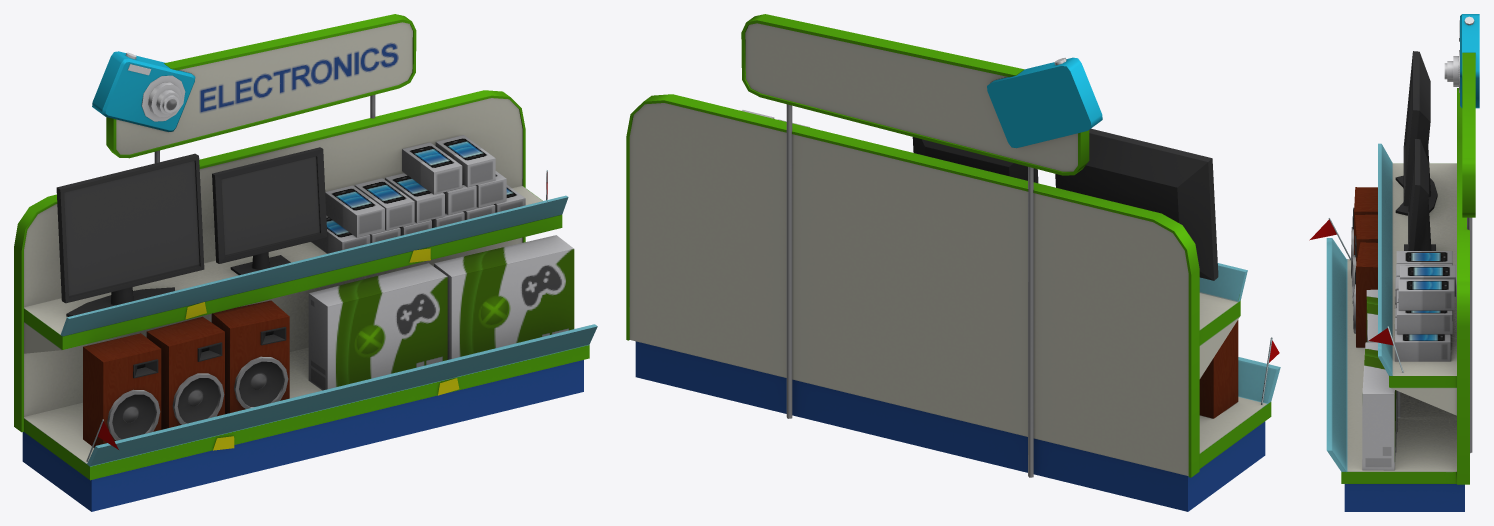
The model's file is interior_shelf_electronics_001_gr_mesh.FBX.
The picture shows the model from 3 angles, left to right: view 1: azimuth 30°, elevation 25°; view 2: azimuth 150°, elevation 25°; view 3: azimuth 270°, elevation 25°; orthographic projection. The views are drawn at different scales.
Parts seen in each view (by area): view 1: interior_shelf_electronics_001_gr; view 2: interior_shelf_electronics_001_gr; view 3: interior_shelf_electronics_001_gr.
Part boxes in pixels (x1,y1,x2,y2): interior_shelf_electronics_001_gr: (14, 14, 597, 511); interior_shelf_electronics_001_gr: (626, 14, 1280, 511); interior_shelf_electronics_001_gr: (1309, 14, 1479, 511).
Size of the model in its own units: 29.58 by 21.3 by 9.91.
